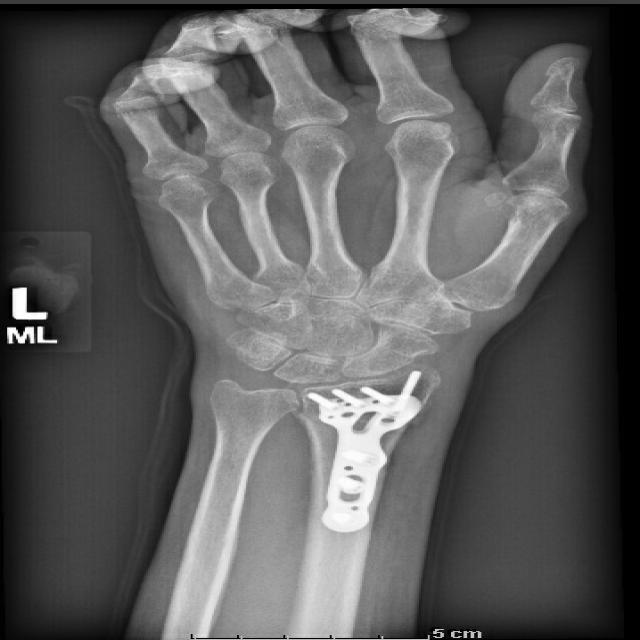x-ray: (299, 367, 435, 545)
